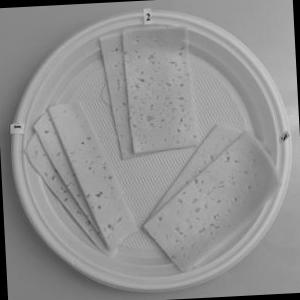cheese: (147, 112, 282, 268), (14, 98, 143, 259), (86, 20, 204, 161)
